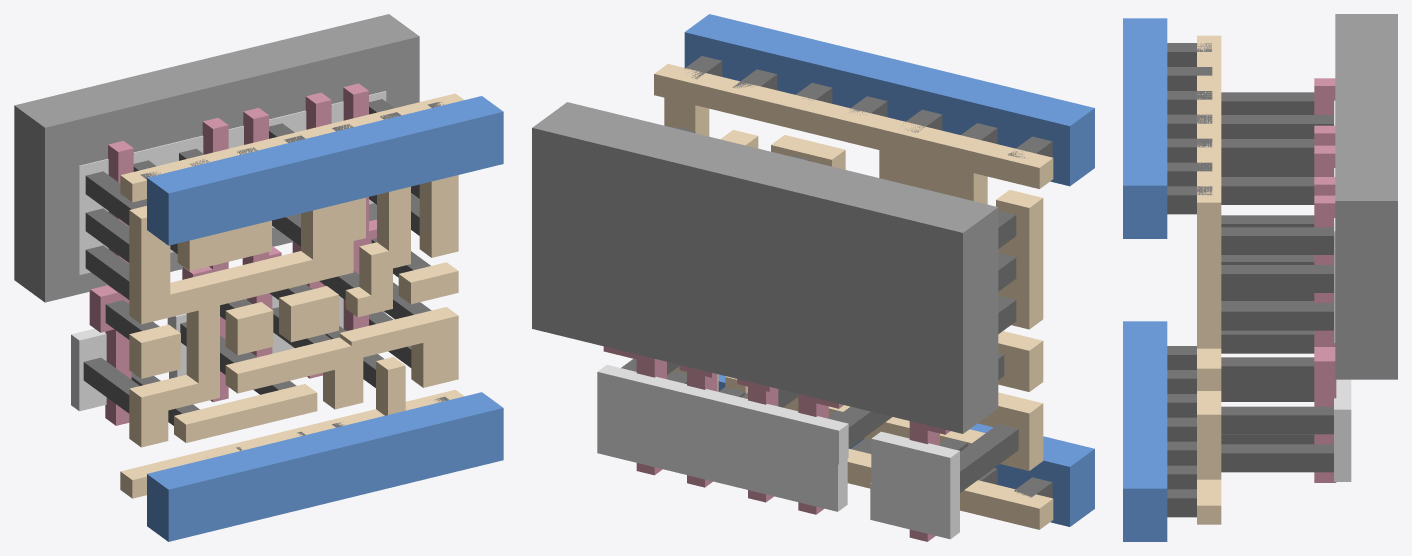
Rendered from sky130_fd_sc_hd__o221ai_1.gds.gltf.
3 renders of one model, left to right at view 1: azimuth 30°, elevation 25°; view 2: azimuth 150°, elevation 25°; view 3: azimuth 270°, elevation 25°, orthographic. The views are drawn at different scales.
Parts seen in each view (by area): view 1: sky130_fd_sc_hd__o221ai_1_li1, sky130_fd_sc_hd__o221ai_1_met1, sky130_fd_sc_hd__o221ai_1_nwell, sky130_fd_sc_hd__o221ai_1_licon, sky130_fd_sc_hd__o221ai_1_poly, sky130_fd_sc_hd__o221ai_1_diff, sky130_fd_sc_hd__o221ai_1_mcon; view 2: sky130_fd_sc_hd__o221ai_1_nwell, sky130_fd_sc_hd__o221ai_1_li1, sky130_fd_sc_hd__o221ai_1_diff, sky130_fd_sc_hd__o221ai_1_met1, sky130_fd_sc_hd__o221ai_1_licon, sky130_fd_sc_hd__o221ai_1_mcon, sky130_fd_sc_hd__o221ai_1_poly; view 3: sky130_fd_sc_hd__o221ai_1_licon, sky130_fd_sc_hd__o221ai_1_nwell, sky130_fd_sc_hd__o221ai_1_met1, sky130_fd_sc_hd__o221ai_1_li1, sky130_fd_sc_hd__o221ai_1_mcon, sky130_fd_sc_hd__o221ai_1_poly, sky130_fd_sc_hd__o221ai_1_diff.
Boxes of the visible parts, <box> form: sky130_fd_sc_hd__o221ai_1_li1: <box>120,93,463,498</box>; sky130_fd_sc_hd__o221ai_1_met1: <box>147,96,503,541</box>; sky130_fd_sc_hd__o221ai_1_nwell: <box>14,14,419,302</box>; sky130_fd_sc_hd__o221ai_1_licon: <box>83,99,431,425</box>; sky130_fd_sc_hd__o221ai_1_poly: <box>89,83,376,425</box>; sky130_fd_sc_hd__o221ai_1_diff: <box>71,91,386,411</box>; sky130_fd_sc_hd__o221ai_1_mcon: <box>140,102,448,450</box>; sky130_fd_sc_hd__o221ai_1_nwell: <box>532,102,998,433</box>; sky130_fd_sc_hd__o221ai_1_li1: <box>654,64,1053,529</box>; sky130_fd_sc_hd__o221ai_1_diff: <box>597,364,959,539</box>; sky130_fd_sc_hd__o221ai_1_met1: <box>684,14,1094,526</box>; sky130_fd_sc_hd__o221ai_1_licon: <box>621,126,1018,492</box>; sky130_fd_sc_hd__o221ai_1_mcon: <box>684,56,1052,498</box>; sky130_fd_sc_hd__o221ai_1_poly: <box>603,346,950,541</box>; sky130_fd_sc_hd__o221ai_1_licon: <box>1221,92,1333,472</box>; sky130_fd_sc_hd__o221ai_1_nwell: <box>1335,14,1397,379</box>; sky130_fd_sc_hd__o221ai_1_met1: <box>1123,18,1167,541</box>; sky130_fd_sc_hd__o221ai_1_li1: <box>1197,35,1221,524</box>; sky130_fd_sc_hd__o221ai_1_mcon: <box>1167,43,1212,517</box>; sky130_fd_sc_hd__o221ai_1_poly: <box>1314,78,1336,482</box>; sky130_fd_sc_hd__o221ai_1_diff: <box>1334,100,1351,481</box>.
Size of the model in its own units: 3.6 by 3.2 by 2.24.
